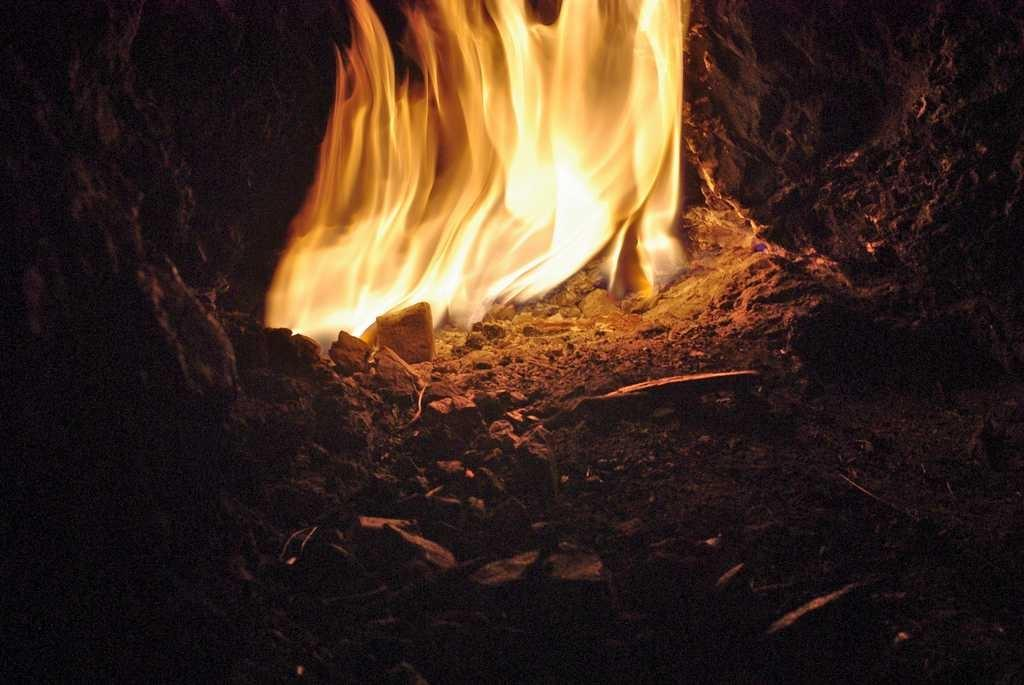fire: (300, 3, 690, 323)
